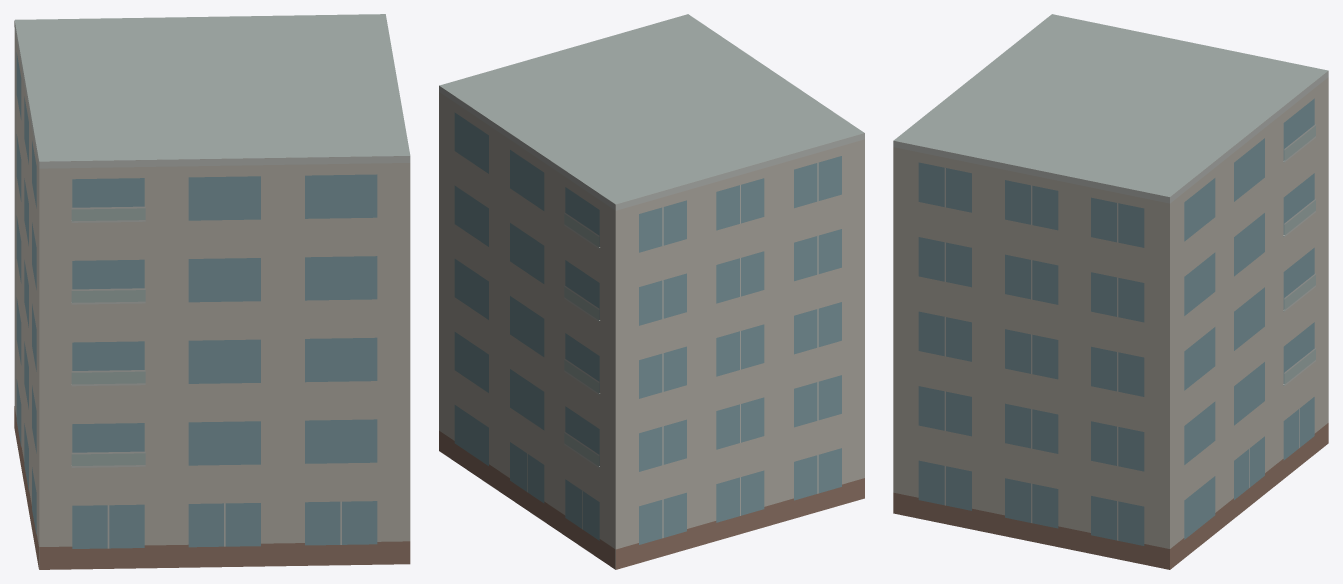
Rendered from survey-upis-32979961.glb.
3 renders of one model, left to right at view 1: azimuth 30°, elevation 25°; view 2: azimuth 150°, elevation 25°; view 3: azimuth 270°, elevation 25°, orthographic. The views are drawn at different scales.
Parts seen in each view (by area): view 1: survey-upis-32979961.tmp; view 2: survey-upis-32979961.tmp; view 3: survey-upis-32979961.tmp.
Part boxes in pixels (left/top/right/bottom): survey-upis-32979961.tmp: left=14, top=14, right=410, bottom=569; survey-upis-32979961.tmp: left=439, top=14, right=864, bottom=569; survey-upis-32979961.tmp: left=893, top=14, right=1328, bottom=569.
Size of the model in its own units: 14.98 by 14.2 by 15.04.
